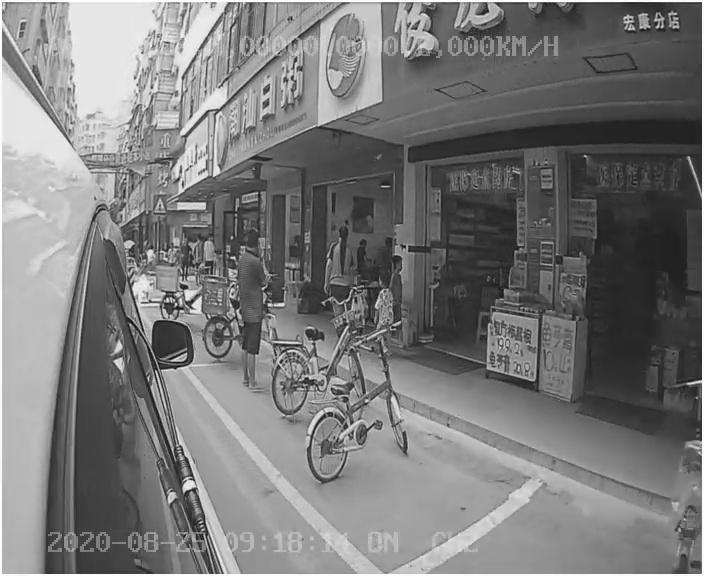person: (228, 232, 279, 397)
